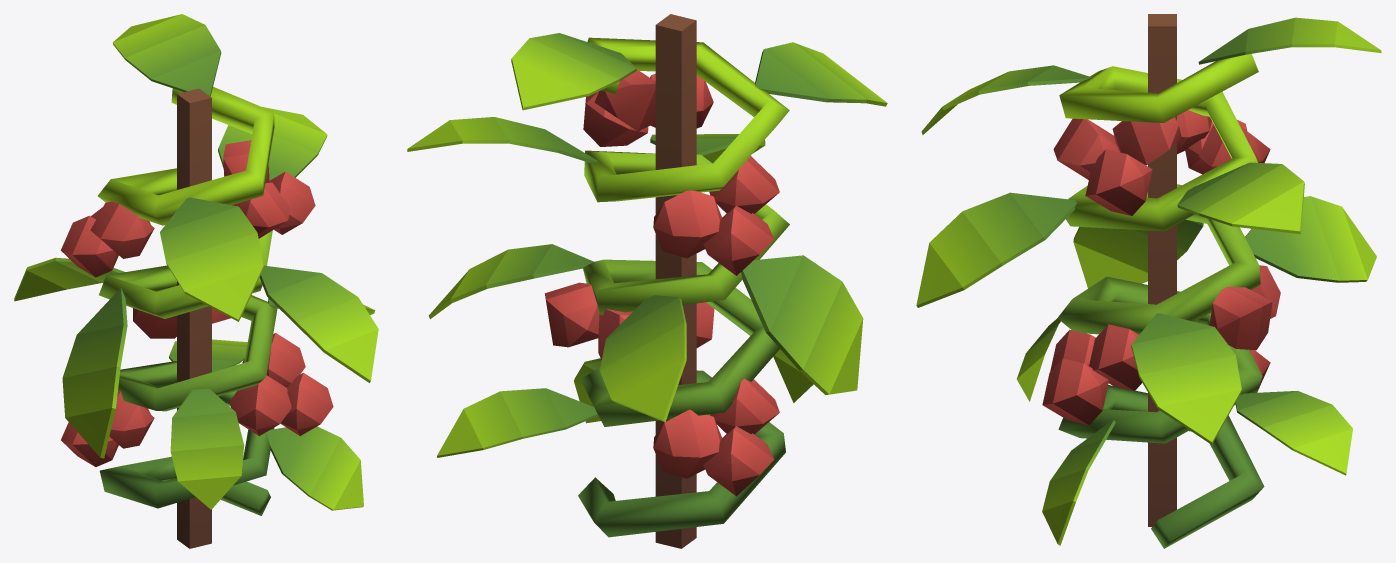
Rendered from farmpack2023tomato.fbx.
3 renders of one model, left to right at view 1: azimuth 30°, elevation 25°; view 2: azimuth 150°, elevation 25°; view 3: azimuth 270°, elevation 25°, orthographic. The views are drawn at different scales.
Parts seen in each view (by area): view 1: Sphere.002; view 2: Sphere.002; view 3: Sphere.002.
Boxes of the visible parts, x1,y1,x2,y2 form: Sphere.002: [14, 14, 378, 548]; Sphere.002: [407, 14, 887, 548]; Sphere.002: [916, 14, 1381, 548].
Size of the model in its own units: 1.81 by 1.63 by 2.21.
